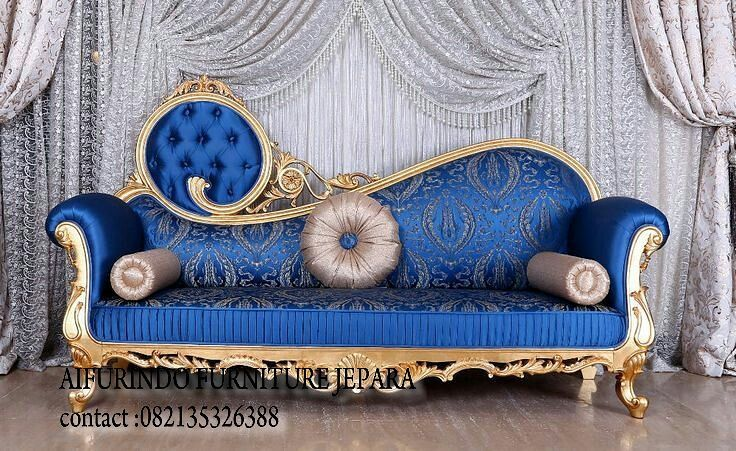Carving Chair: (77, 99, 664, 420)
